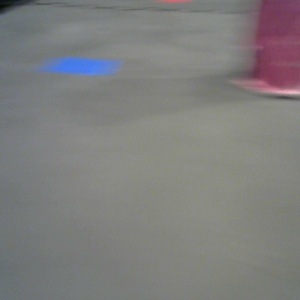Right: (182, 1, 275, 114)
